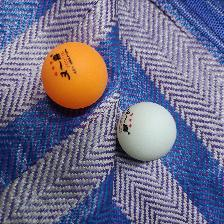WhiteBall: (115, 102, 178, 161)
YellowBall: (41, 42, 107, 109)
